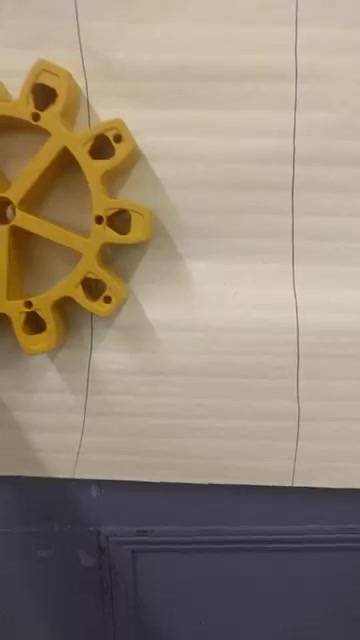gear: (1, 59, 157, 354)
